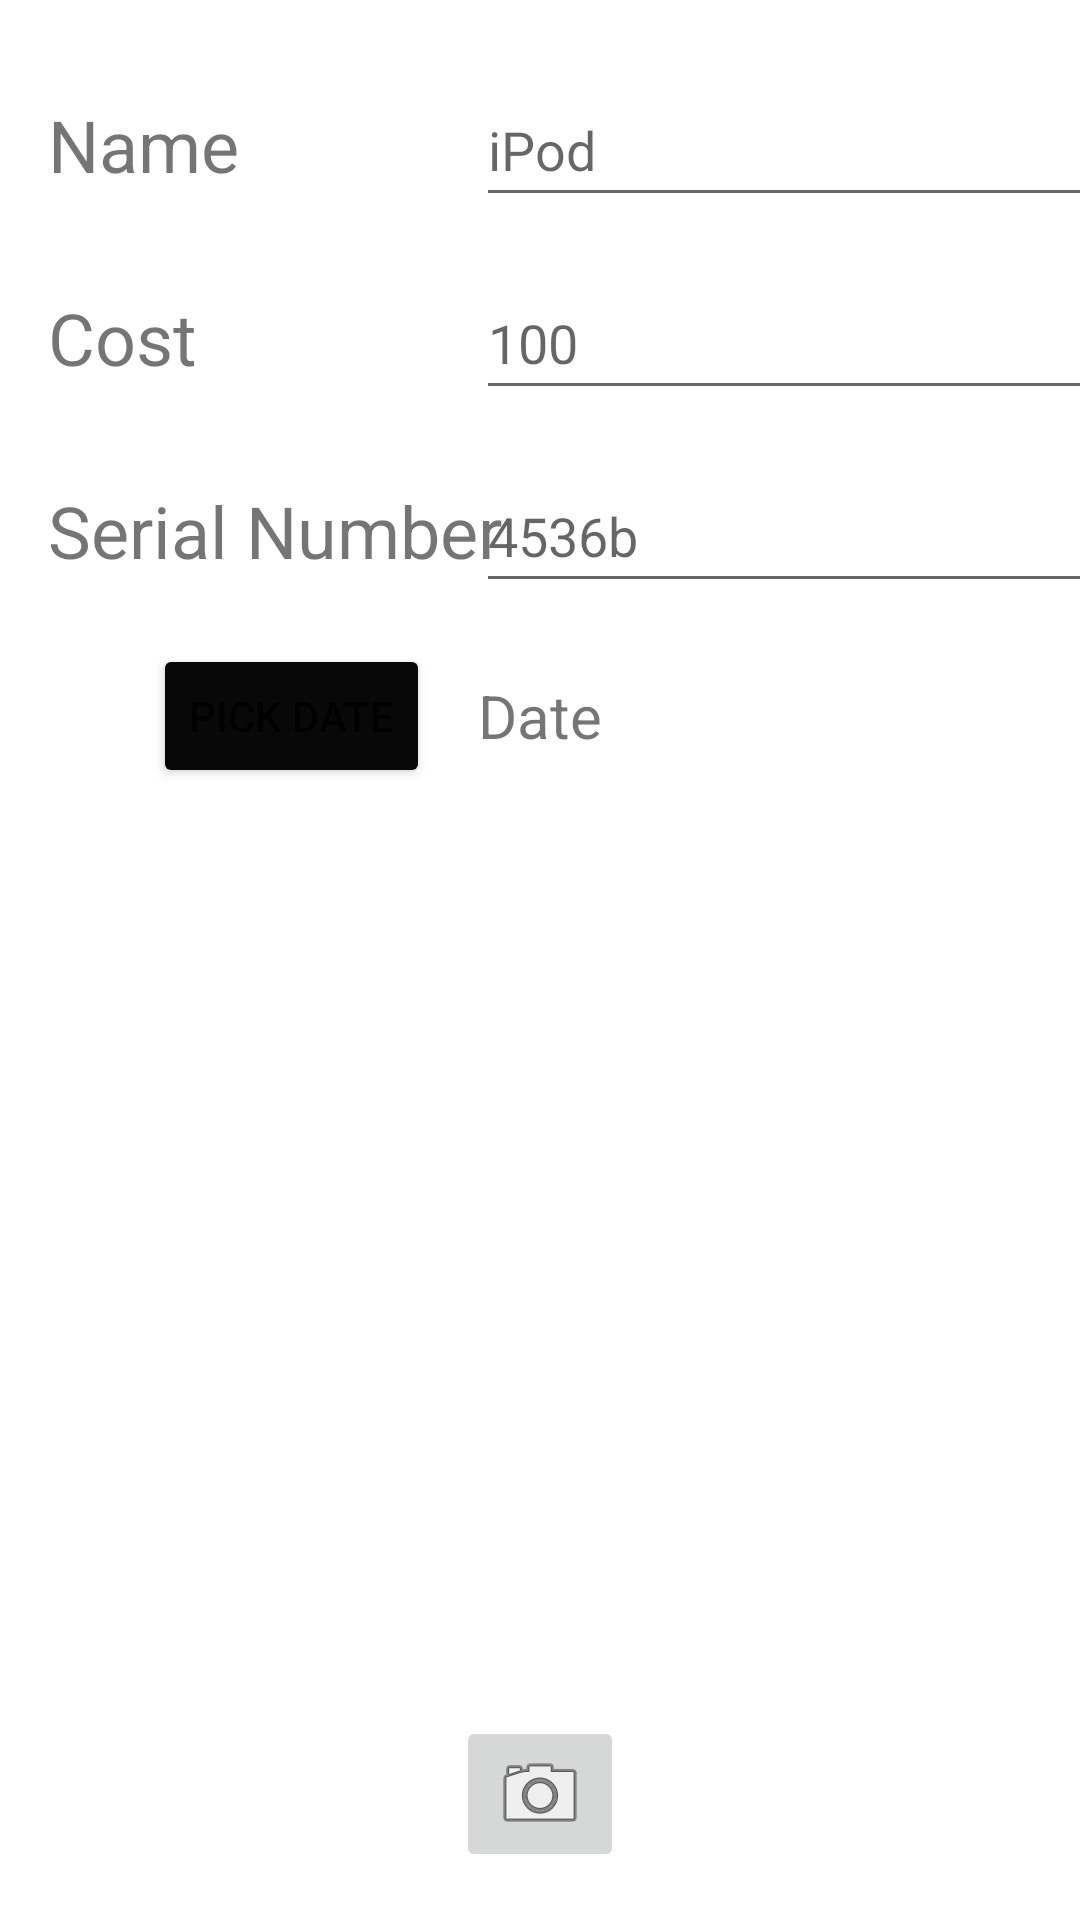

Icon bounding boxes for this 1080*1920 phone screenshot, format (x1,y1,x2,y2):
Take Picture: (468,1734,612,1854)
